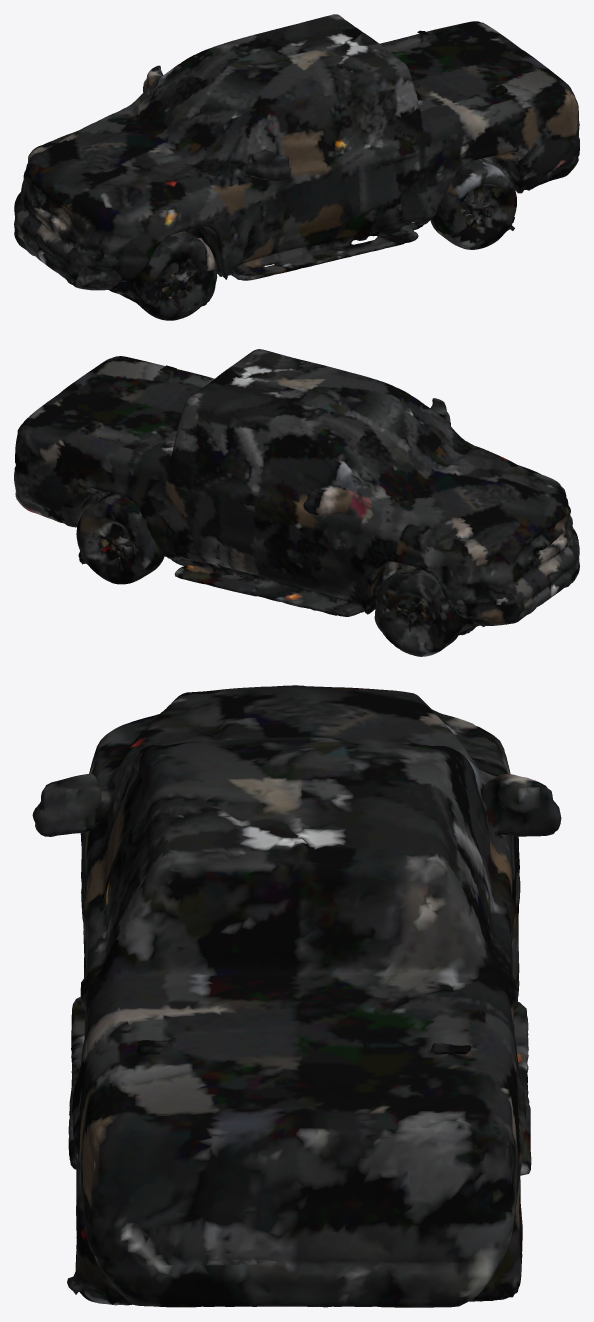
File: car-truck.glb
3 renders of one model, top to bottom at view 1: azimuth 30°, elevation 25°; view 2: azimuth 150°, elevation 25°; view 3: azimuth 270°, elevation 25°, orthographic. The views are drawn at different scales.
Visible parts, largest first — view 1: truck-body; view 2: truck-body; view 3: truck-body.
Part boxes in pixels (box(x1,y1,x2,y2)): truck-body: box(14, 14, 579, 320); truck-body: box(14, 349, 579, 656); truck-body: box(32, 685, 561, 1307).
Bounding box in the file's own units: 1.99 × 0.7561 × 0.9264.
